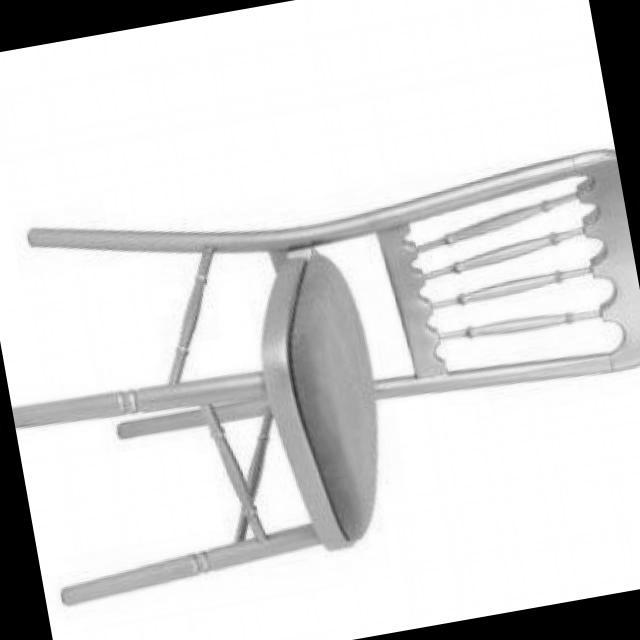chair: (0, 120, 640, 615)
